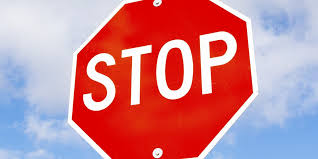stop sign: (71, 1, 257, 159)
